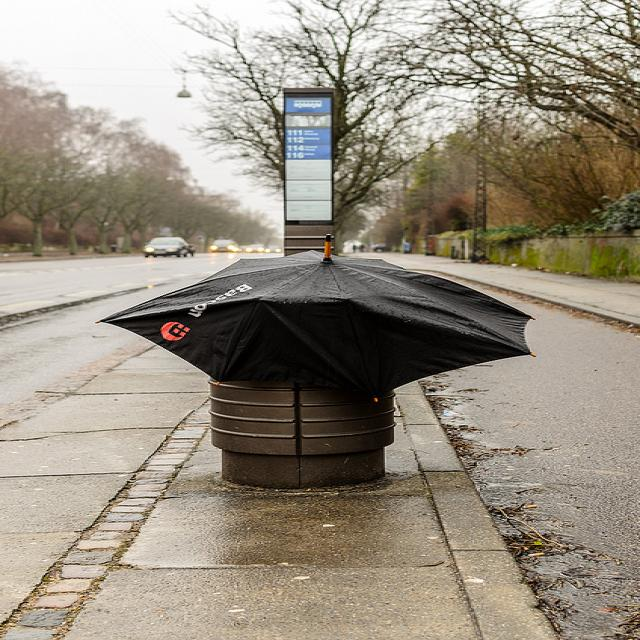Vehicle: (143, 236, 189, 258), (210, 239, 236, 253), (245, 244, 268, 253), (268, 245, 282, 253)
